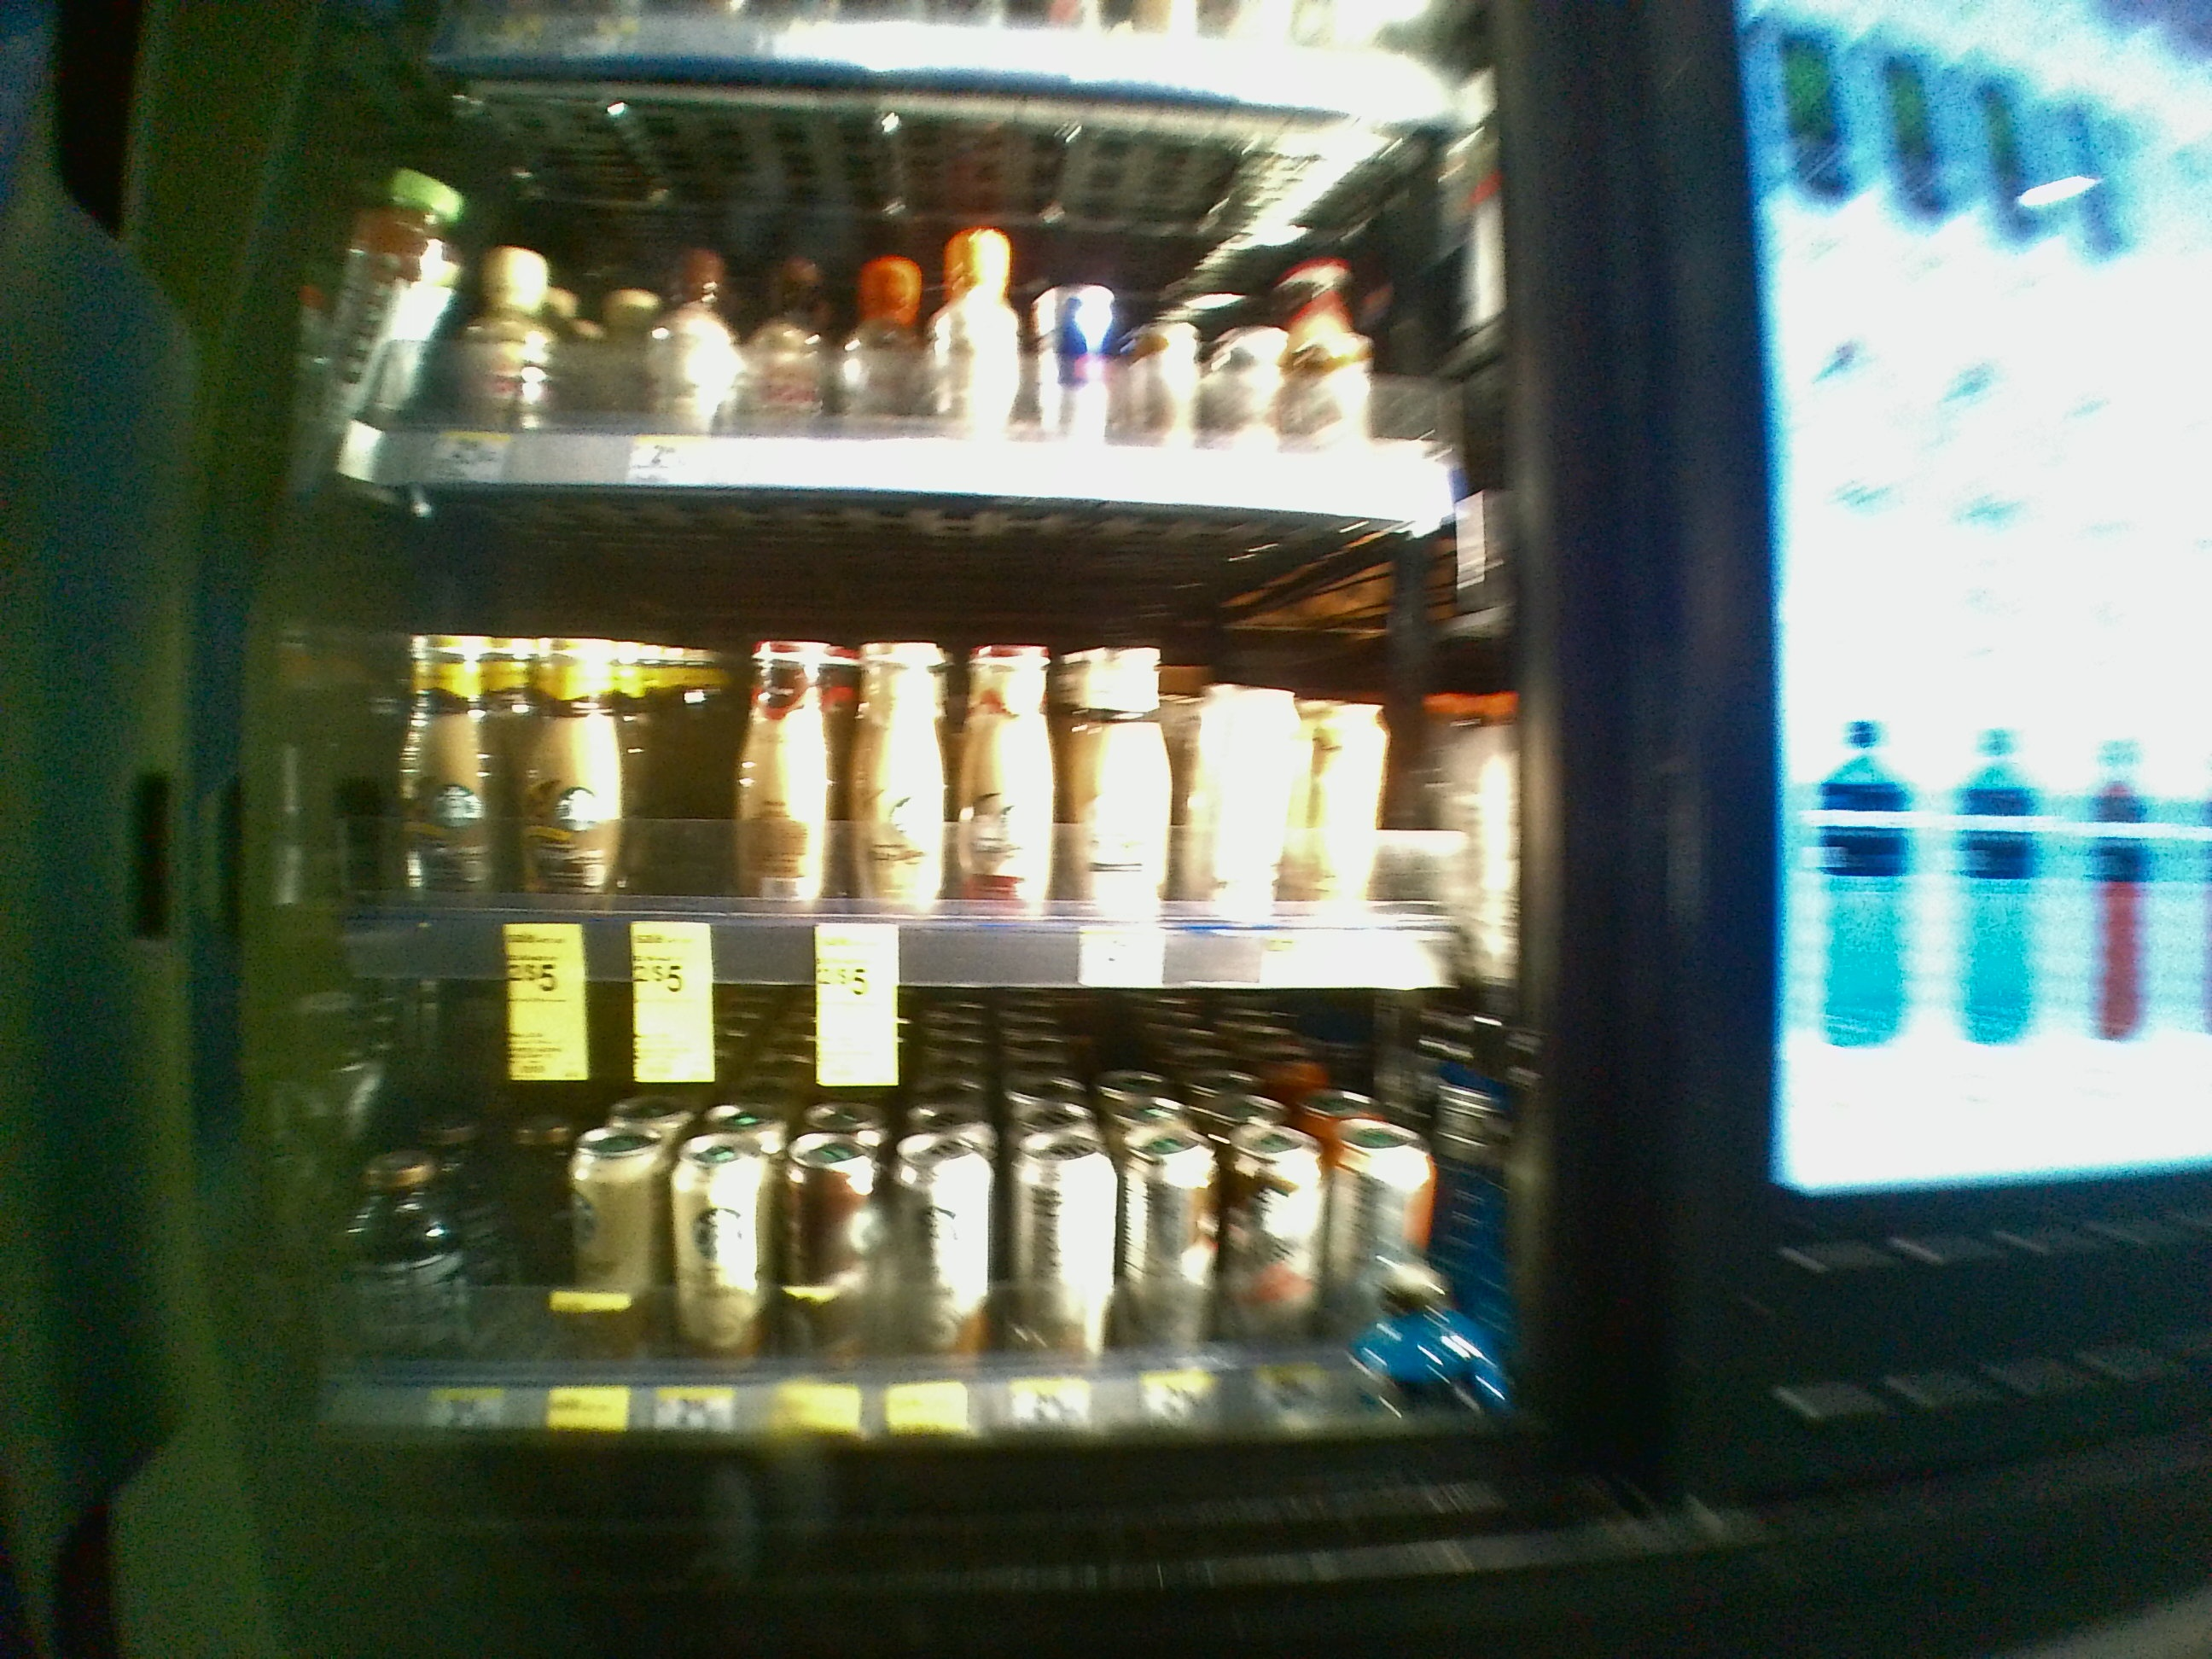shelf: (272, 479, 1562, 993), (277, 981, 1561, 1460)
